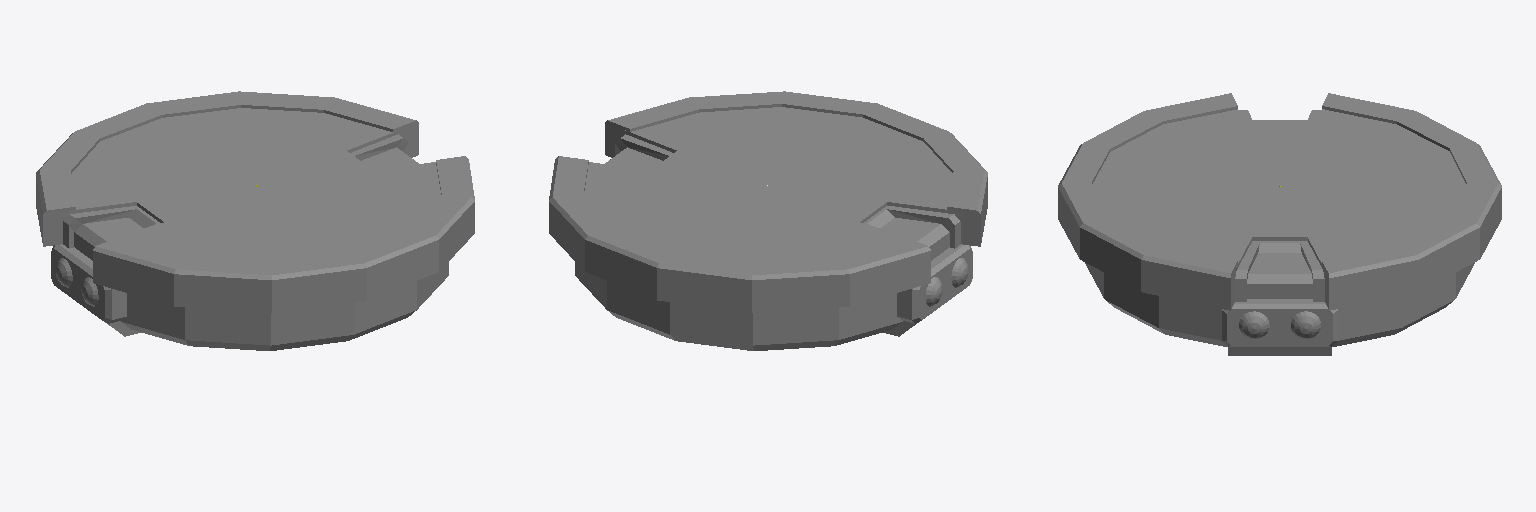
Rendered from cpz_obj_floorA_2b_M.obj.
3 views of the same model, side by side, from view 1: azimuth 30°, elevation 25°; view 2: azimuth 150°, elevation 25°; view 3: azimuth 270°, elevation 25° (orthographic).
Parts seen in each view (by area): view 1: cpz_metal_tn1_footholdA_floor, ccp_metal_yy_yelow_Cmn_dpn, cpz_metal_tn1_footholdA_001, ccp_etc_yy_light01_IgnoL_d, cpz_etc_tn1_lamp_001; view 2: cpz_metal_tn1_footholdA_floor, ccp_metal_yy_yelow_Cmn_dpn, cpz_metal_tn1_footholdA_001, ccp_etc_yy_light01_IgnoL_d, cpz_etc_tn1_lamp_001; view 3: cpz_metal_tn1_footholdA_floor, ccp_metal_yy_yelow_Cmn_dpn, cpz_metal_tn1_footholdA_001, ccp_etc_yy_light01_IgnoL_d, cpz_etc_tn1_lamp_001.
Part boxes in pixels (bbox=[...]): cpz_metal_tn1_footholdA_floor: bbox=[58, 108, 448, 350]; ccp_metal_yy_yelow_Cmn_dpn: bbox=[36, 91, 474, 312]; cpz_metal_tn1_footholdA_001: bbox=[51, 134, 435, 336]; ccp_etc_yy_light01_IgnoL_d: bbox=[74, 147, 418, 260]; cpz_etc_tn1_lamp_001: bbox=[56, 258, 98, 306]; cpz_metal_tn1_footholdA_floor: bbox=[575, 107, 965, 350]; ccp_metal_yy_yelow_Cmn_dpn: bbox=[549, 91, 987, 312]; cpz_metal_tn1_footholdA_001: bbox=[589, 134, 972, 336]; ccp_etc_yy_light01_IgnoL_d: bbox=[605, 147, 949, 260]; cpz_etc_tn1_lamp_001: bbox=[926, 258, 967, 306]; cpz_metal_tn1_footholdA_floor: bbox=[1085, 109, 1474, 346]; ccp_metal_yy_yelow_Cmn_dpn: bbox=[1058, 93, 1501, 310]; cpz_metal_tn1_footholdA_001: bbox=[1222, 110, 1337, 355]; ccp_etc_yy_light01_IgnoL_d: bbox=[1247, 120, 1312, 298]; cpz_etc_tn1_lamp_001: bbox=[1239, 311, 1320, 338].
Bounding box in the file's own units: 71.31 × 26.34 × 72.95.